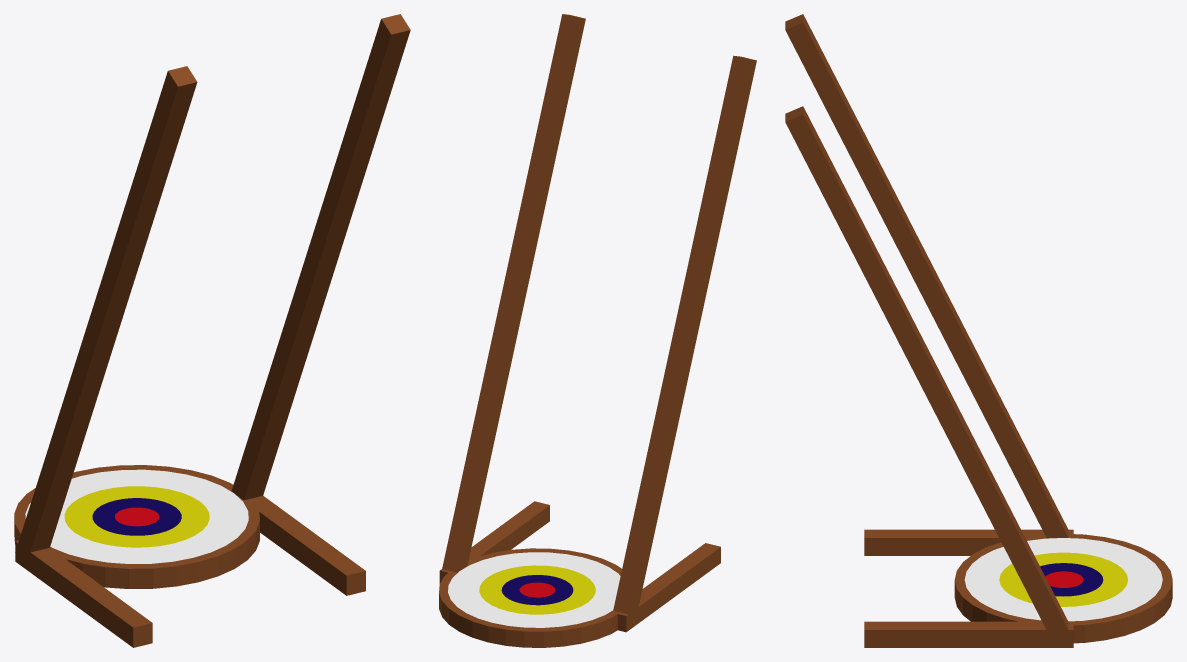
Rendered from Target.fbx.
3 renders of one model, left to right at view 1: azimuth 30°, elevation 25°; view 2: azimuth 150°, elevation 25°; view 3: azimuth 270°, elevation 25°, orthographic. The views are drawn at different scales.
Parts seen in each view (by area): view 1: Cube.002, Cube.003, Large, Outside, Cube, Medium, Cube.001, Small, Center; view 2: Cube.002, Cube.003, Large, Outside, Medium, Cube, Cube.001, Small; view 3: Cube.003, Cube.002, Large, Outside, Cube.001, Cube, Medium, Small.
Part boxes in pixels (bbox=[...]): Cube.002: bbox=[16, 66, 197, 565]; Cube.003: bbox=[231, 14, 410, 500]; Large: bbox=[25, 469, 248, 563]; Outside: bbox=[14, 465, 259, 588]; Cube: bbox=[15, 540, 152, 647]; Medium: bbox=[64, 486, 209, 547]; Cube.001: bbox=[244, 495, 365, 595]; Small: bbox=[92, 498, 181, 535]; Center: bbox=[114, 507, 159, 526]; Cube.002: bbox=[613, 55, 756, 625]; Cube.003: bbox=[442, 14, 585, 572]; Large: bbox=[448, 552, 620, 627]; Outside: bbox=[439, 548, 621, 647]; Medium: bbox=[479, 565, 595, 614]; Cube: bbox=[611, 543, 720, 632]; Cube.001: bbox=[439, 501, 549, 583]; Small: bbox=[501, 575, 573, 605]; Cube.003: bbox=[785, 106, 1073, 647]; Cube.002: bbox=[785, 14, 1068, 537]; Large: bbox=[964, 538, 1162, 621]; Outside: bbox=[954, 534, 1172, 643]; Cube.001: bbox=[864, 621, 1073, 647]; Cube: bbox=[864, 529, 1073, 555]; Medium: bbox=[999, 552, 1127, 606]; Small: bbox=[1040, 563, 1103, 596].
Bounding box in the file's own units: 118 × 291 × 192.
